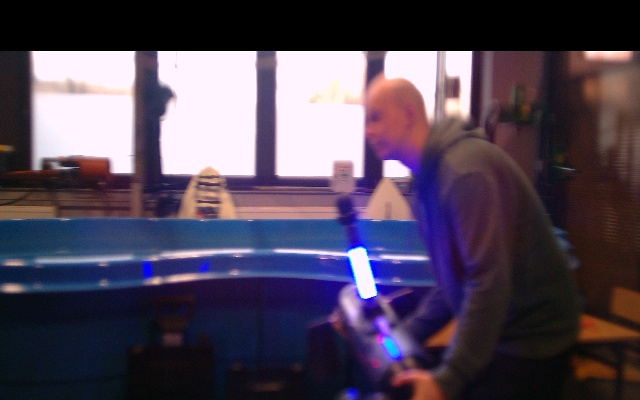blue: (348, 246, 377, 301)
